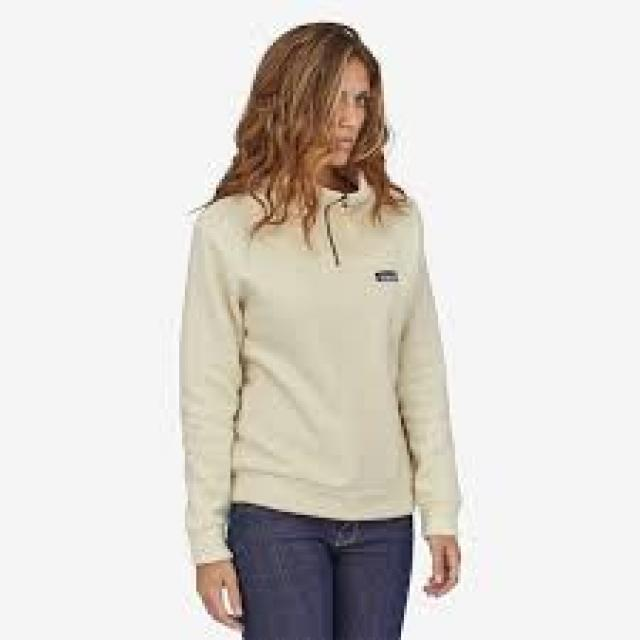plain: (175, 165, 472, 536)
